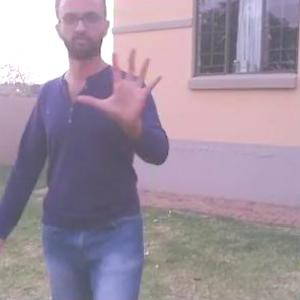follow_hand: (76, 42, 167, 128)
